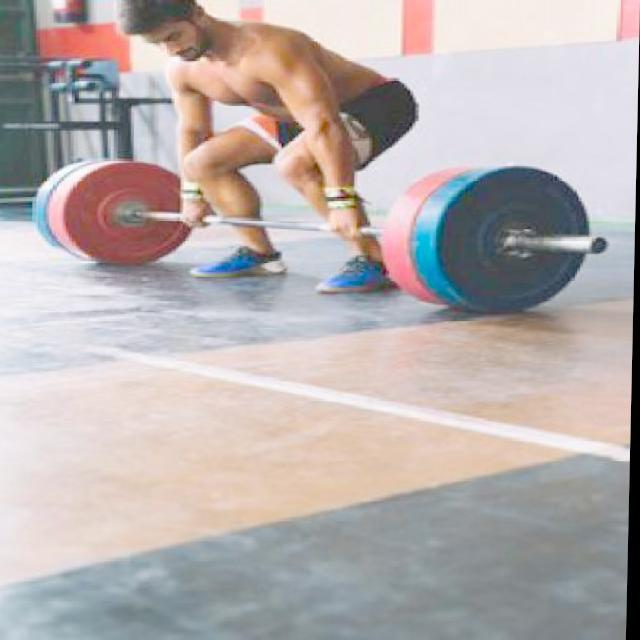barbell: (427, 163, 622, 322)
